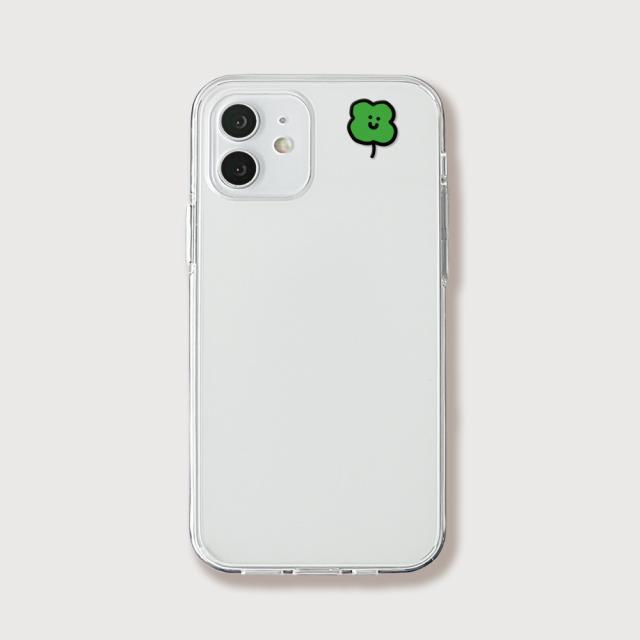phone: (191, 70, 448, 574)
